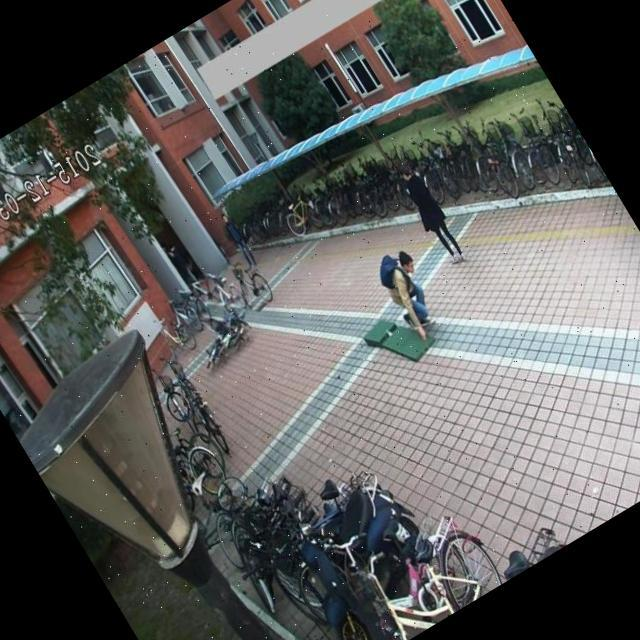person: (386, 153, 476, 277), (365, 241, 458, 346), (212, 204, 264, 274)
